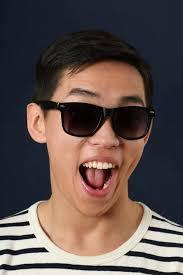sunglasses: (51, 99, 162, 143)
